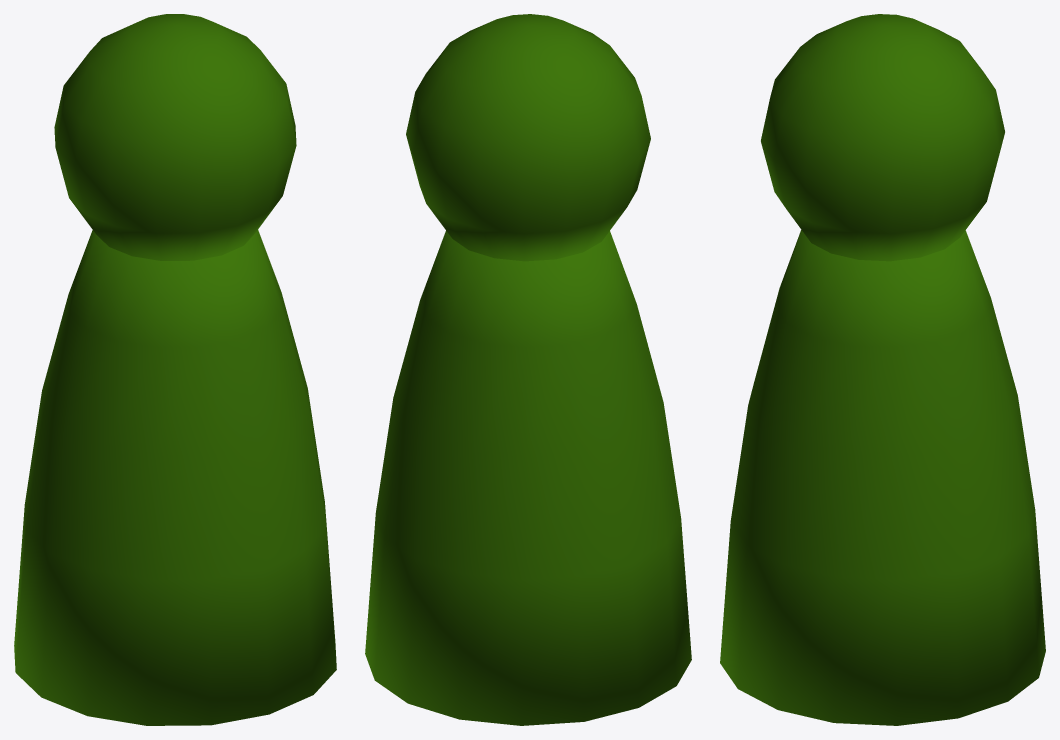
Rendered from char1.fbx.
3 views of the same model, side by side, from view 1: azimuth 30°, elevation 25°; view 2: azimuth 150°, elevation 25°; view 3: azimuth 270°, elevation 25° (orthographic).
Parts seen in each view (by area): view 1: Pawn_red.010; view 2: Pawn_red.010; view 3: Pawn_red.010.
Boxes of the visible parts, x1,y1,x2,y2 form: Pawn_red.010: (14,14,336,725); Pawn_red.010: (365,14,691,725); Pawn_red.010: (720,14,1045,725).
Size of the model in its own units: 66.4 by 142 by 66.4.
